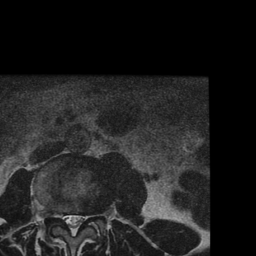CCS_normal: (70, 210, 77, 241)
LFS_severe_stenosis: (86, 208, 93, 227)
LLS_stenosis: (77, 209, 85, 230)
RFS_stenosis: (55, 208, 63, 225)
RLS_normal: (63, 210, 70, 230)
